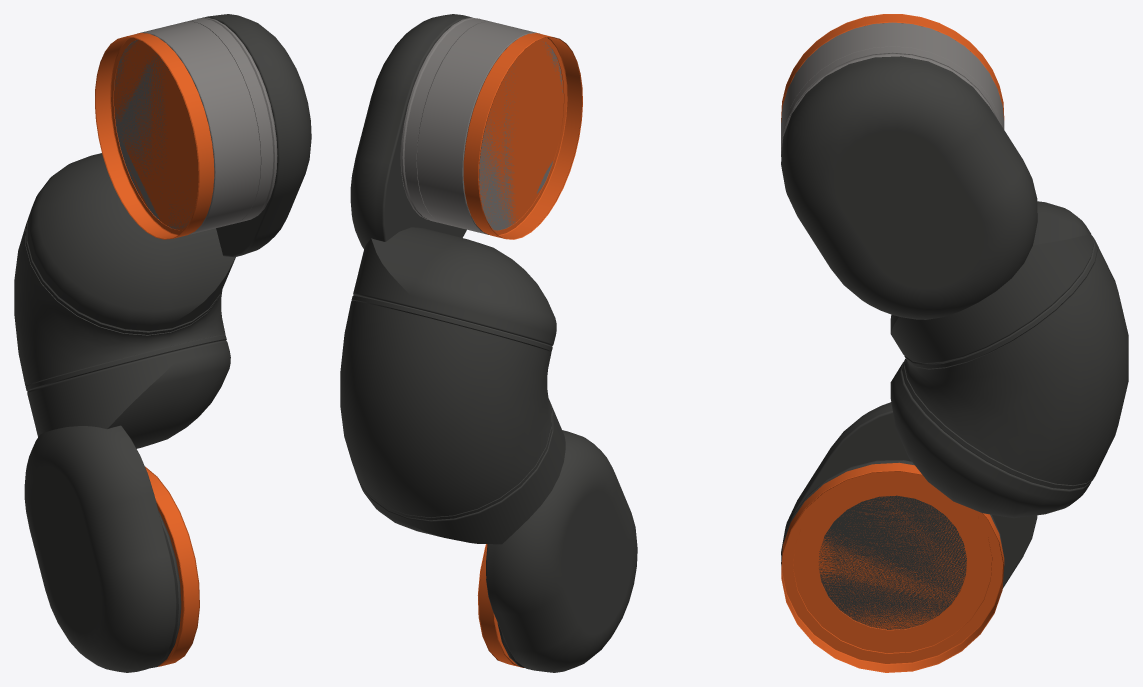
File: igus_REBEL_j1.gltf
3 views of the same model, side by side, from view 1: azimuth 30°, elevation 25°; view 2: azimuth 150°, elevation 25°; view 3: azimuth 270°, elevation 25° (orthographic). The views are drawn at different scales.
Parts seen in each view (by area): view 1: ReBel005.061; view 2: ReBel005.061; view 3: ReBel005.061.
Part boxes in pixels (x1,y1,x2,y2): ReBel005.061: (14, 14, 311, 672); ReBel005.061: (340, 14, 637, 672); ReBel005.061: (781, 14, 1128, 672).
Size of the model in its own units: 0.119 by 0.3416 by 0.2174.
